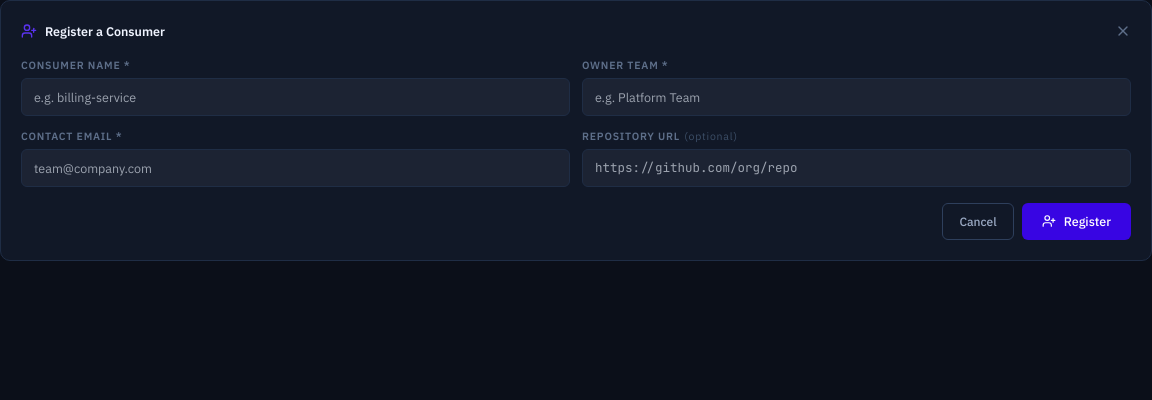
RegisterConsumerForm › announces a submit failure as an alert
Type "billing-service" into the field labelled "Consumer Name *" at (296, 97), box [21,78,570,116]
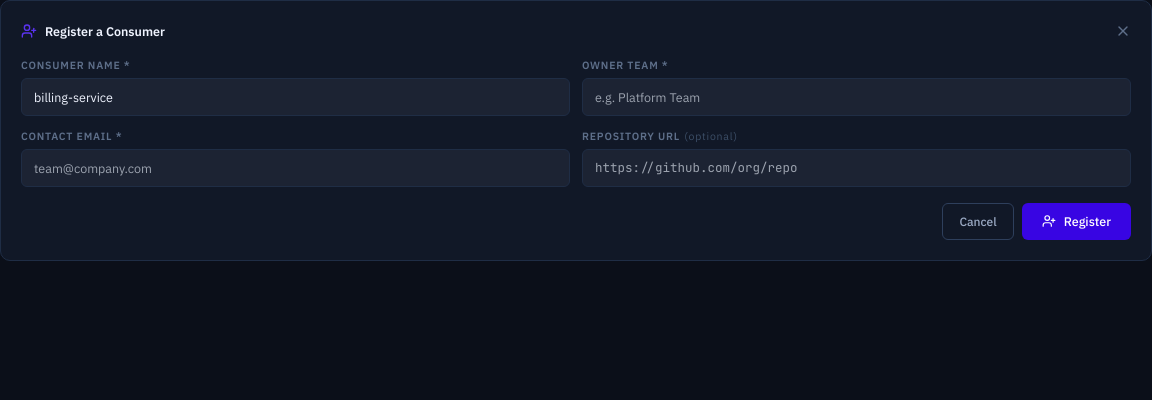
Type "Platform" into the field labelled "Owner Team *" at (856, 97), box [582,78,1131,116]
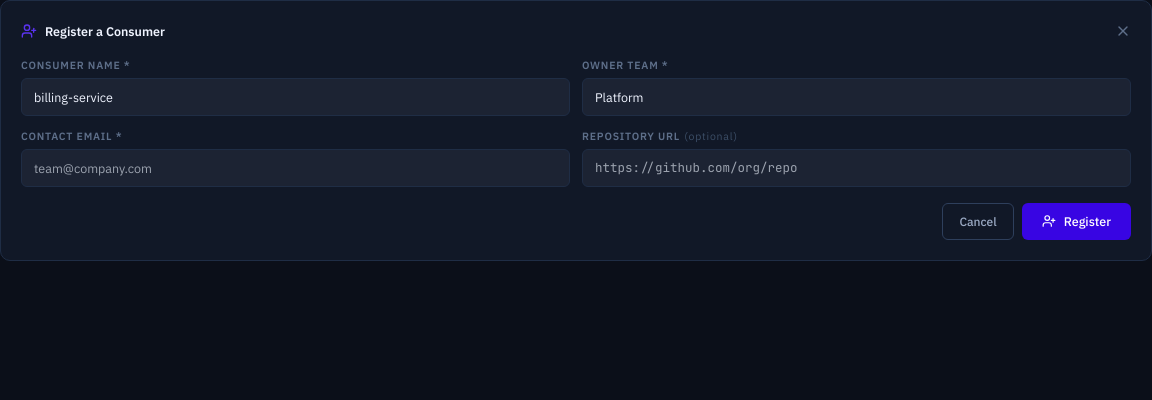
Type "team@example.com" into the field labelled "Contact Email *" at (296, 168), box [21,149,570,187]
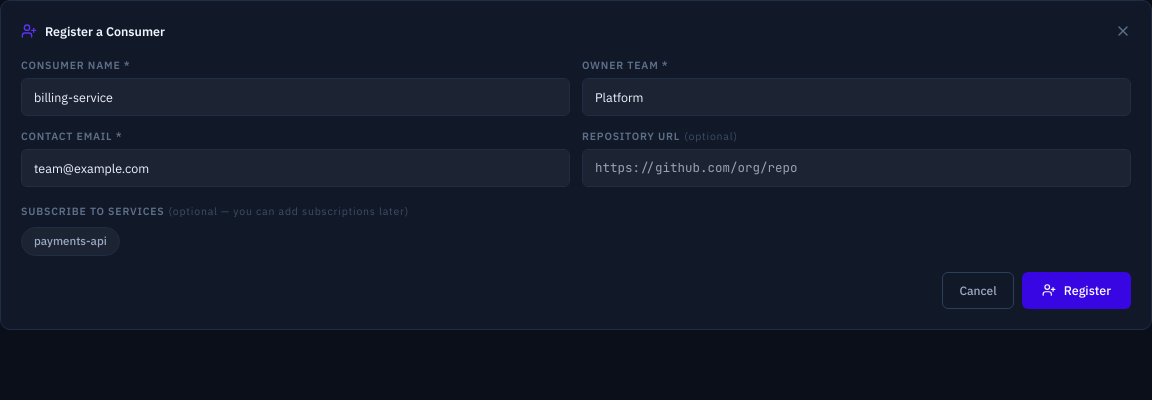
Click the button "Register" at (1076, 290), box [1022,272,1131,309]
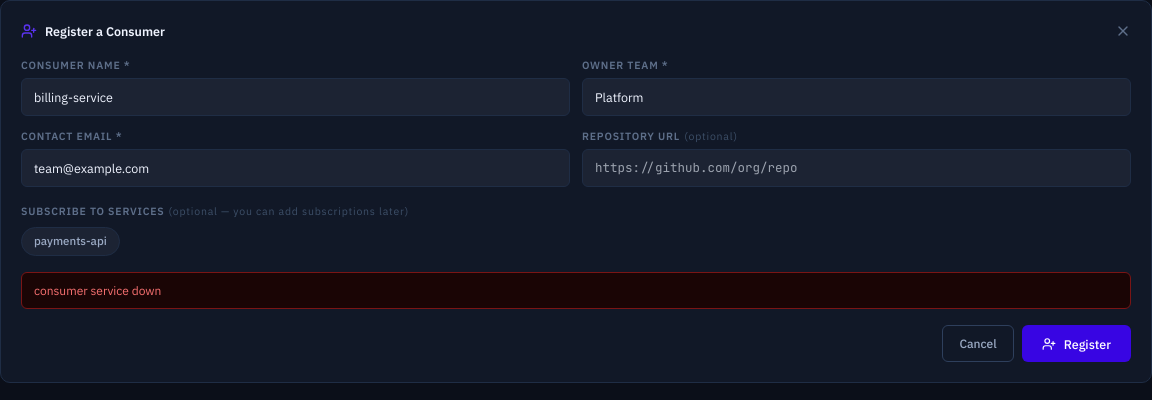
Expected: the message reads "consumer service down", [34,283,161,298]
